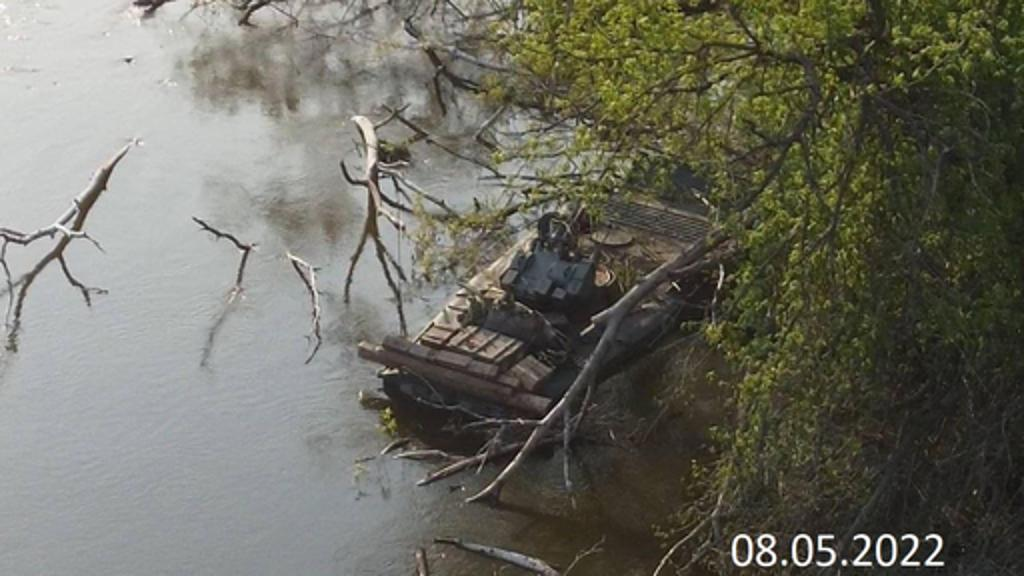APC-IFV: (348, 168, 738, 434)
